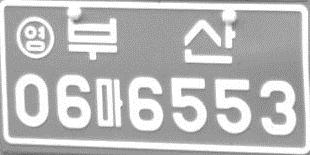0: (14, 72, 50, 128)
3: (258, 79, 297, 136)
5: (213, 77, 253, 135), (170, 76, 207, 134)
6: (55, 74, 93, 130), (127, 75, 163, 132)
마: (94, 76, 124, 128)
부산_D: (67, 15, 237, 64)
영: (14, 15, 55, 60)
